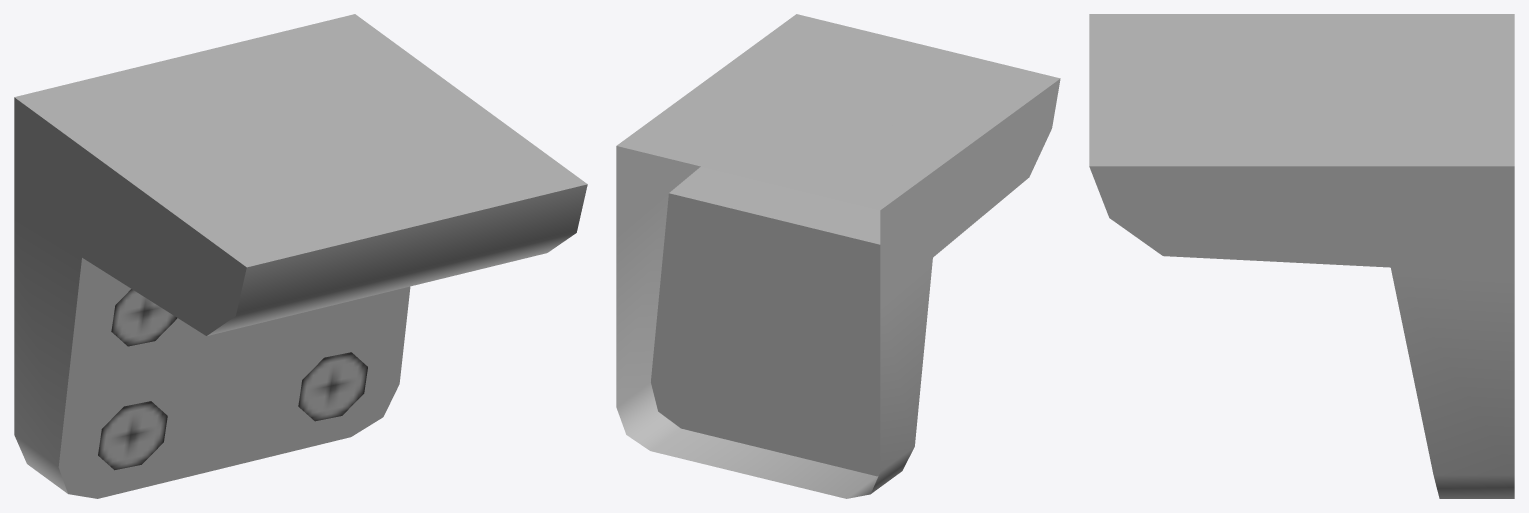
File: ugolok.fbx
3 views of the same model, side by side, from view 1: azimuth 30°, elevation 25°; view 2: azimuth 150°, elevation 25°; view 3: azimuth 270°, elevation 25° (orthographic). The views are drawn at different scales.
Parts seen in each view (by area): view 1: Cube.001, Cube.002; view 2: Cube.001, Cube.002; view 3: Cube.001, Cube.002.
Part boxes in pixels (x1,y1,x2,y2): Cube.001: (14,14,454,498); Cube.002: (131,87,587,336); Cube.001: (616,89,987,498); Cube.002: (694,14,1060,211); Cube.001: (1272,14,1514,498); Cube.002: (1089,14,1331,262).
Size of the model in its own units: 15.05 by 12.74 by 13.69.
